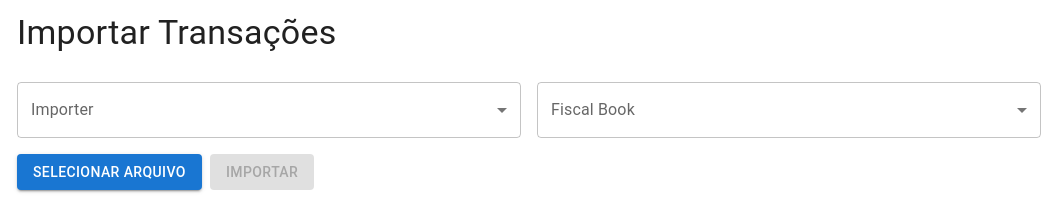
Test case: TransactionsImporter › filters fiscal books to only open ones
The width and height of the screenshot is (1064, 220).
Press the mouse on the dropdown named "Fiscal Book" next to "Fiscal Book" at (789, 110), box x1=537 y1=82 x2=1041 y2=138
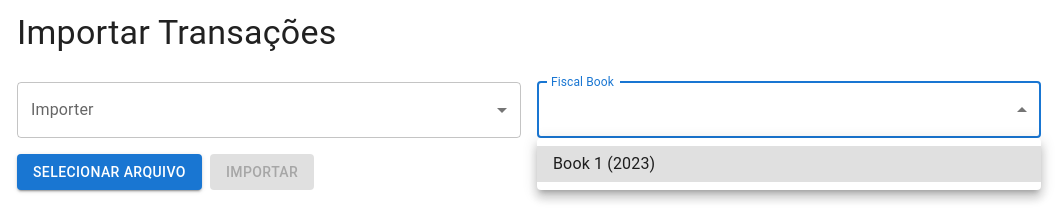
expect the option "Book 1 (2023)" is shown: met, box x1=537 y1=146 x2=1041 y2=182
